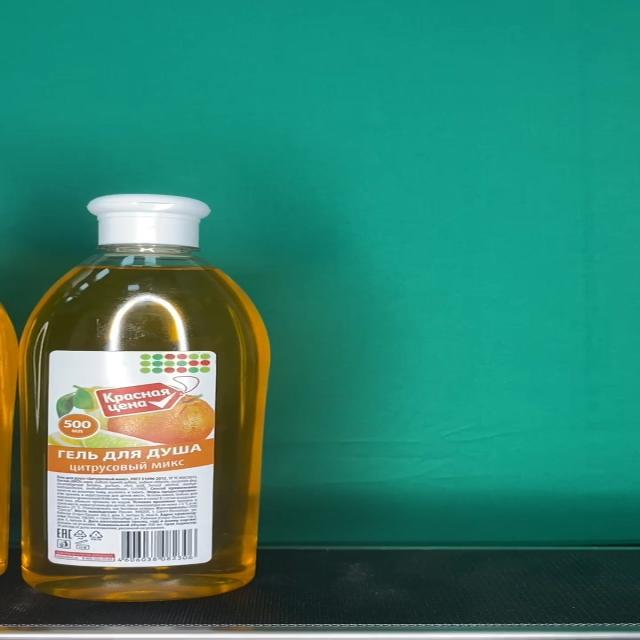Bottle: (18, 192, 271, 601)
Cap: (87, 193, 210, 245)
